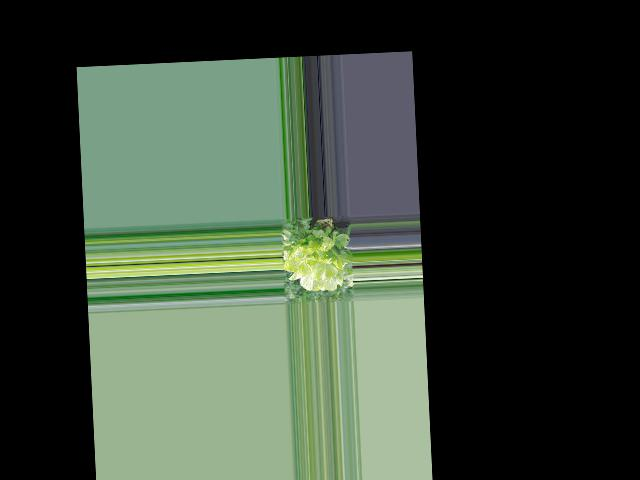lettuce: (288, 230, 351, 291)
